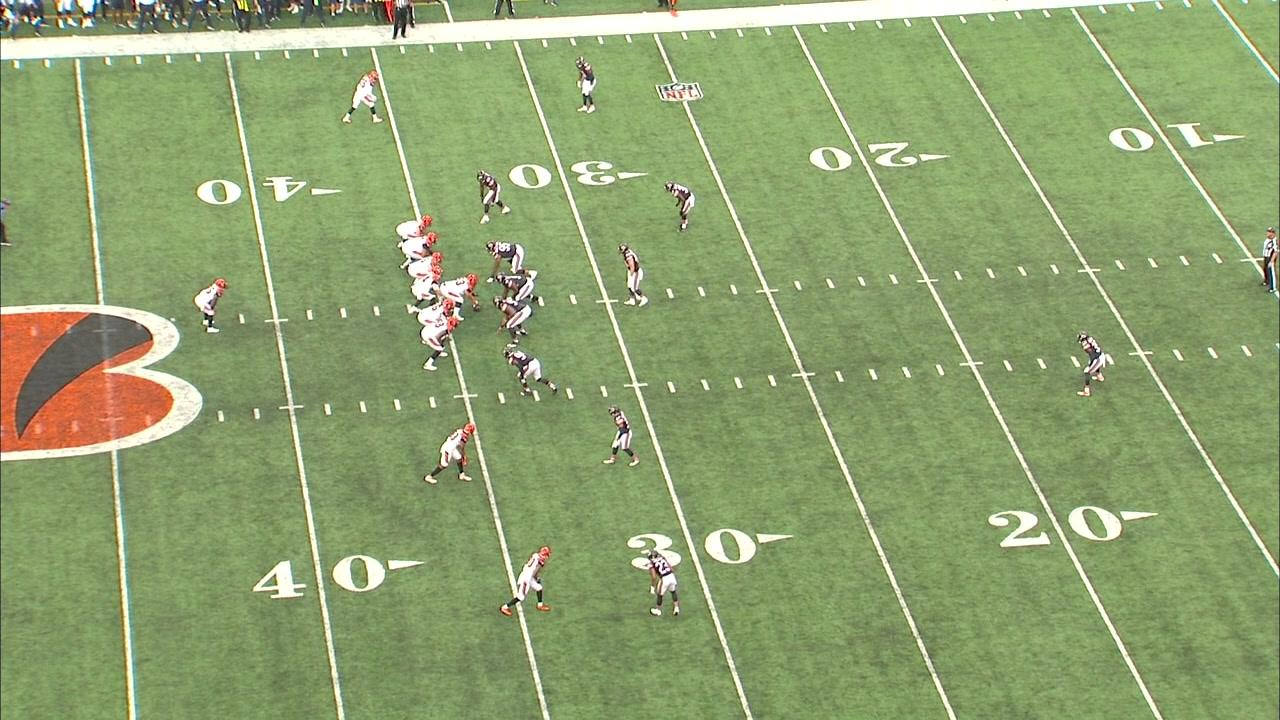defense: (501, 346, 558, 398), (644, 549, 681, 618), (602, 404, 642, 467), (484, 239, 539, 283), (617, 241, 650, 308), (1075, 328, 1106, 397), (491, 294, 532, 346), (476, 168, 512, 226), (496, 273, 545, 310), (664, 181, 696, 234), (573, 55, 599, 115)
oline: (419, 316, 460, 374), (439, 271, 484, 323), (417, 296, 456, 347), (399, 229, 443, 273), (407, 250, 445, 290)
qb: (408, 264, 445, 316)
ref: (1254, 221, 1280, 294), (390, 0, 414, 42), (0, 189, 16, 251)
skill: (498, 543, 554, 618), (423, 420, 478, 486), (339, 69, 384, 126), (193, 276, 229, 336), (394, 212, 433, 251)
